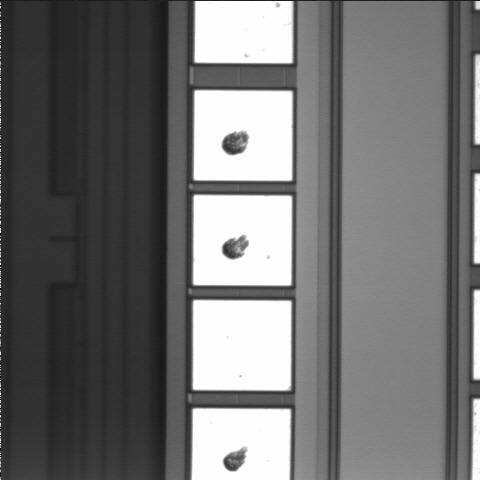pad: (194, 90, 292, 181), (193, 195, 292, 285), (193, 300, 291, 390)
